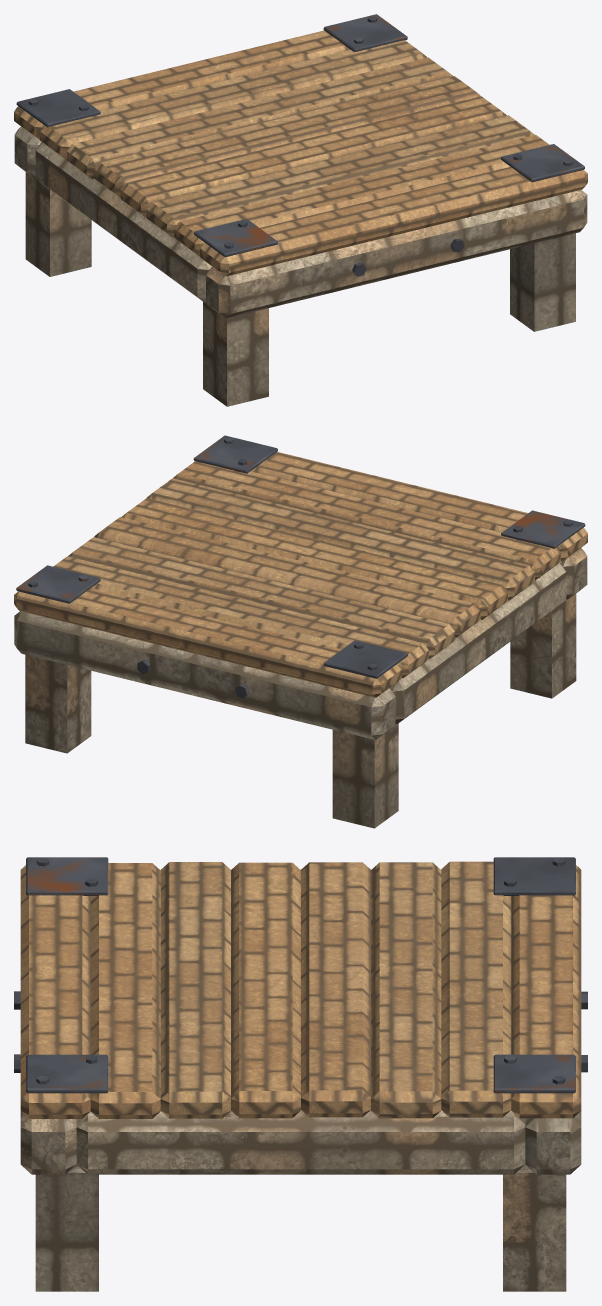
The model's file is makine_platformu_kucuk.glb.
3 views of the same model, one above another, from view 1: azimuth 30°, elevation 25°; view 2: azimuth 150°, elevation 25°; view 3: azimuth 270°, elevation 25° (orthographic). The views are drawn at different scales.
Visible parts, largest first — view 1: makine_platformu_kucuk; view 2: makine_platformu_kucuk; view 3: makine_platformu_kucuk.
Boxes of the visible parts, left/top/right/bottom form: makine_platformu_kucuk: left=14, top=14, right=587, bottom=406; makine_platformu_kucuk: left=14, top=435, right=587, bottom=828; makine_platformu_kucuk: left=14, top=857, right=587, bottom=1291.
Size of the model in its own units: 3 by 1.24 by 3.07.
Materials: 1 (1 with a texture image).
